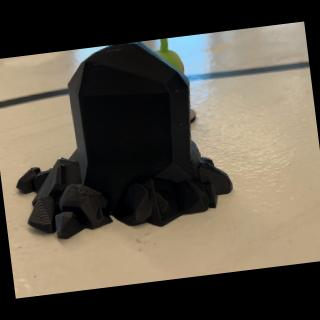teletubby: (155, 38, 184, 73)
